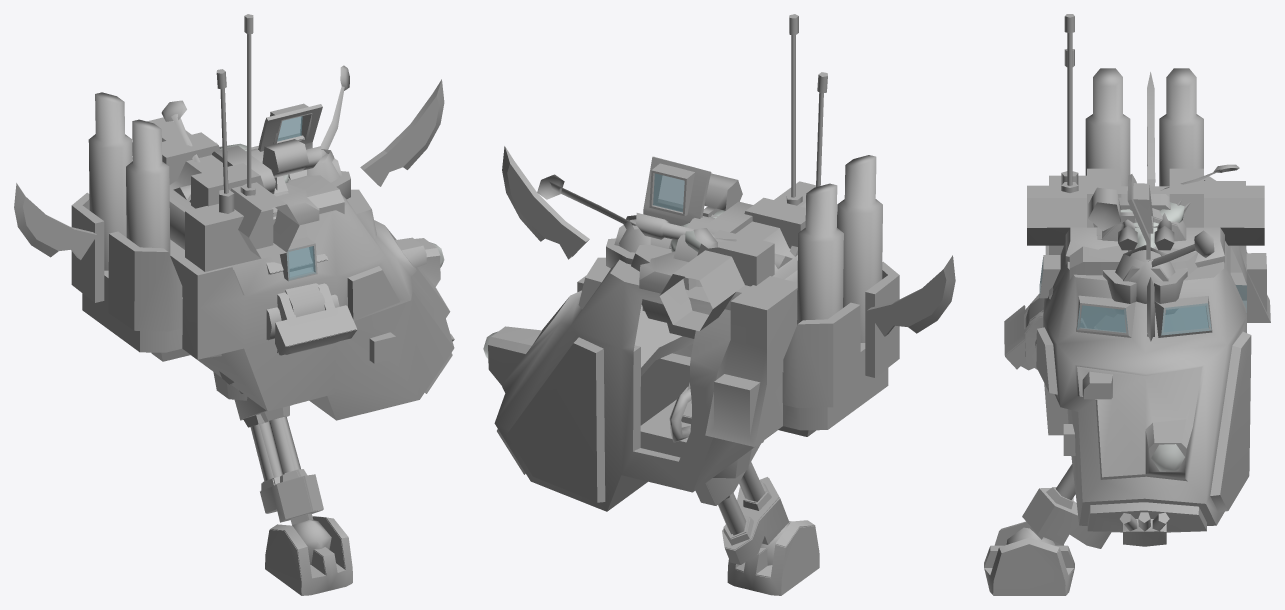
The model's file is bp_sentinel_flamer-1urhmm4.glb.
The picture shows the model from 3 angles, left to right: view 1: azimuth 30°, elevation 25°; view 2: azimuth 150°, elevation 25°; view 3: azimuth 270°, elevation 25°; orthographic projection. The views are drawn at different scales.
Parts seen in each view (by area): view 1: turret, turret_interior, body, legr3, legl2, legl3, object012, object011, legl4, legr4, door, legl1 (+3 smaller); view 2: turret, turret_interior, body, legr3, legr4, door, object012, object011, legl3, detail4, legl4; view 3: turret, turret_interior, body, legl4, legl3, gun_rot_melta, door, detail4, legr2, legl2, legr1, object011 (+5 smaller).
Part boxes in pixels (<box>): turret: <box>71,14,454,420</box>; turret_interior: <box>71,93,452,418</box>; body: <box>132,117,350,258</box>; legr3: <box>240,405,322,564</box>; legl2: <box>219,283,356,393</box>; legl3: <box>234,397,331,549</box>; object012: <box>360,79,444,186</box>; object011: <box>14,183,97,259</box>; legl4: <box>270,516,352,595</box>; legr4: <box>265,517,351,595</box>; door: <box>258,103,322,151</box>; legl1: <box>246,148,326,317</box>; turret: <box>483,14,899,511</box>; turret_interior: <box>488,155,899,509</box>; body: <box>606,181,837,338</box>; legr3: <box>669,399,789,565</box>; legr4: <box>727,526,819,595</box>; door: <box>642,156,711,311</box>; object012: <box>502,146,589,259</box>; object011: <box>867,255,955,336</box>; legl3: <box>670,389,789,549</box>; detail4: <box>537,174,736,248</box>; legl4: <box>727,520,819,577</box>; turret: <box>1036,14,1270,546</box>; turret_interior: <box>1036,68,1270,532</box>; body: <box>1027,168,1264,314</box>; legl4: <box>984,521,1074,595</box>; legl3: <box>1006,464,1110,546</box>; gun_rot_melta: <box>1069,245,1127,279</box>; door: <box>1127,174,1153,259</box>; detail4: <box>1148,164,1239,267</box>; legr2: <box>1005,306,1095,370</box>; legl2: <box>1004,293,1096,355</box>; legr1: <box>1029,217,1185,328</box>; object011: <box>1147,72,1155,186</box>.
Size of the model in its own units: 58.43 by 70.9 by 33.56.
